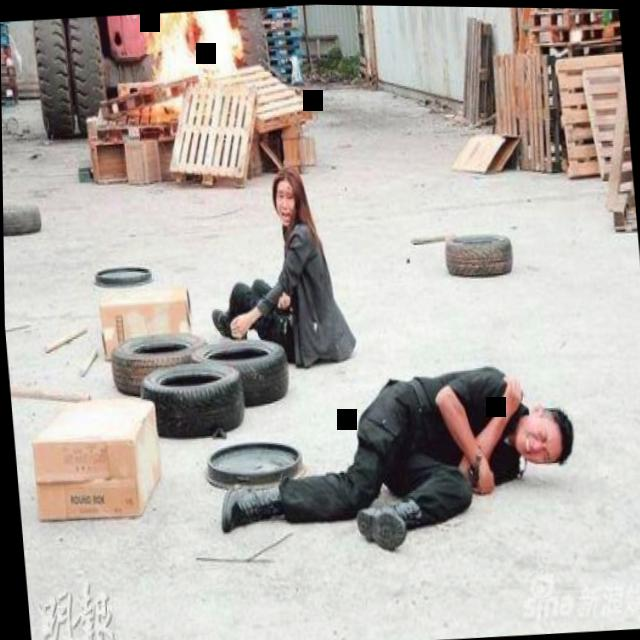Fall-Detected: (209, 329, 586, 574)
